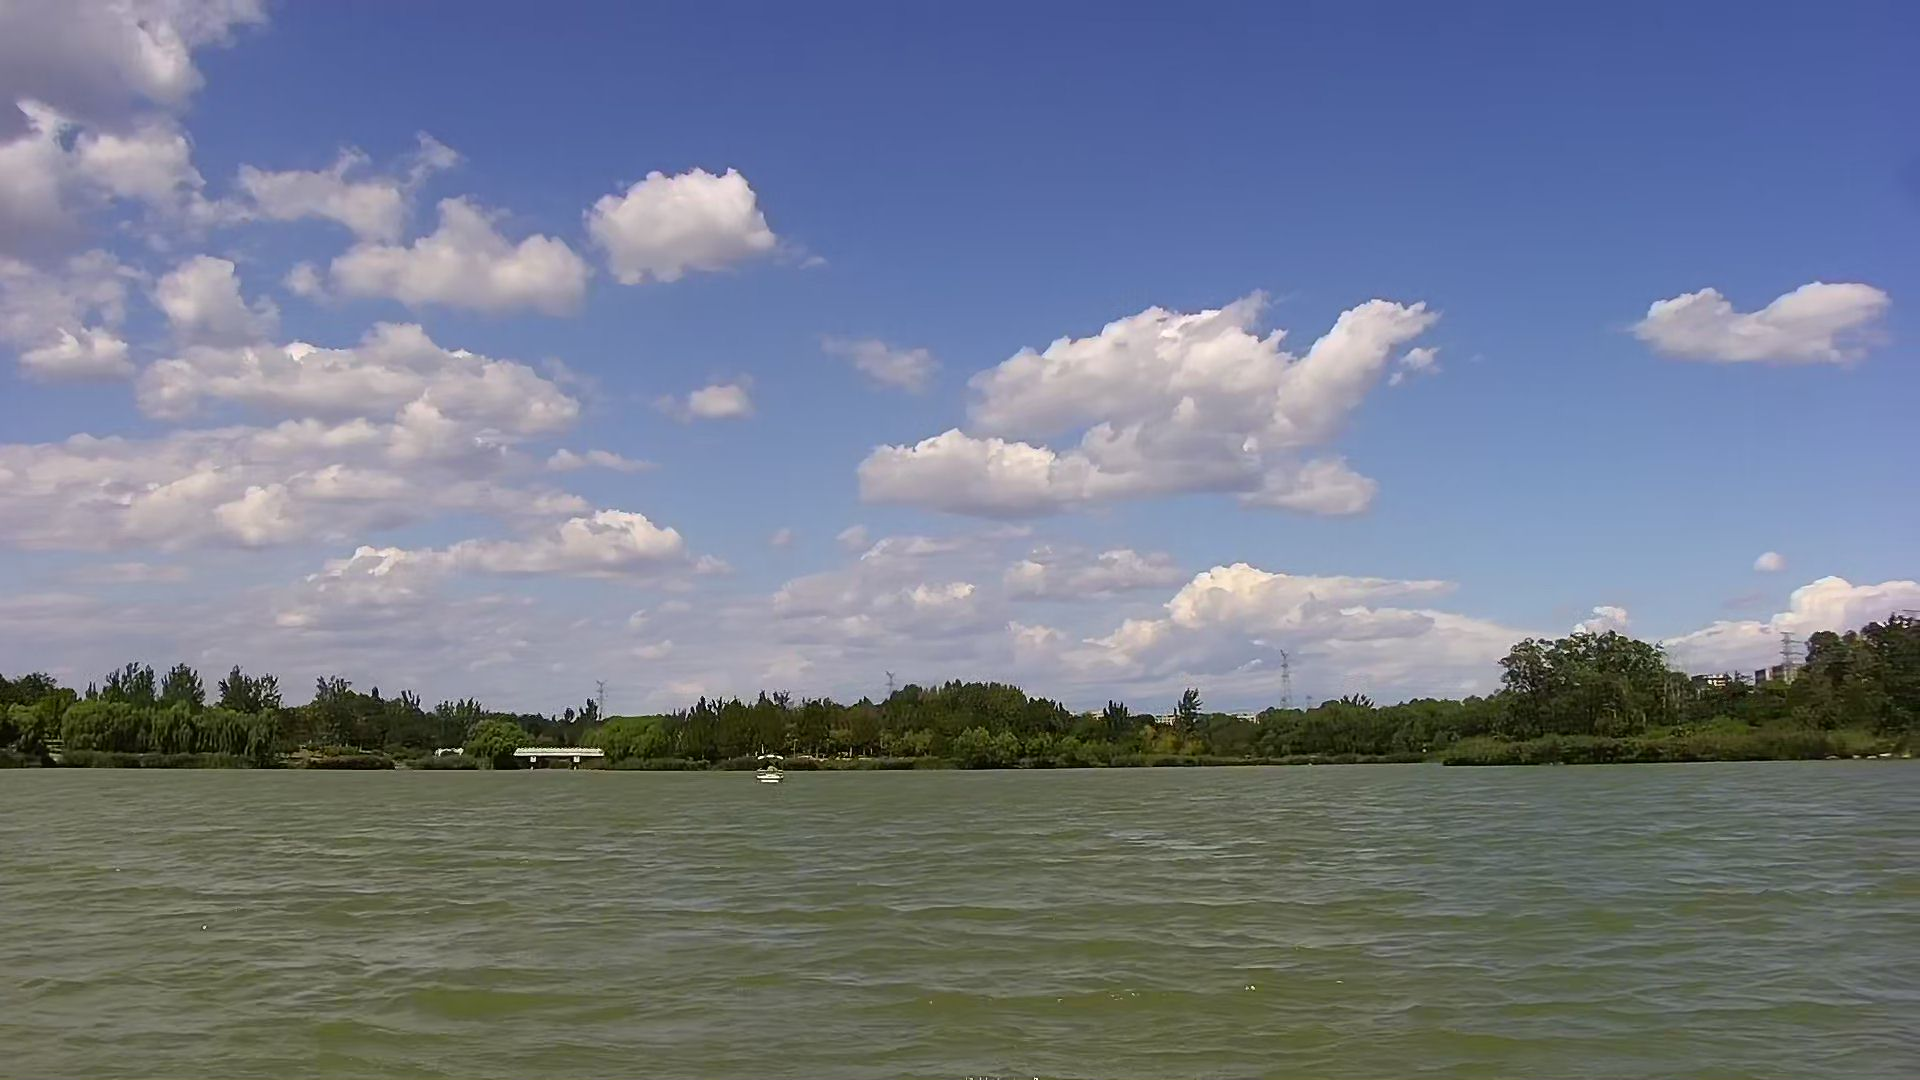boat: (752, 748, 795, 790)
bridge: (498, 738, 613, 774)
